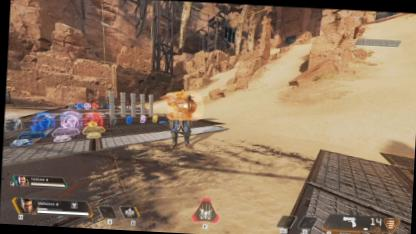Target: (165, 88, 196, 148)
